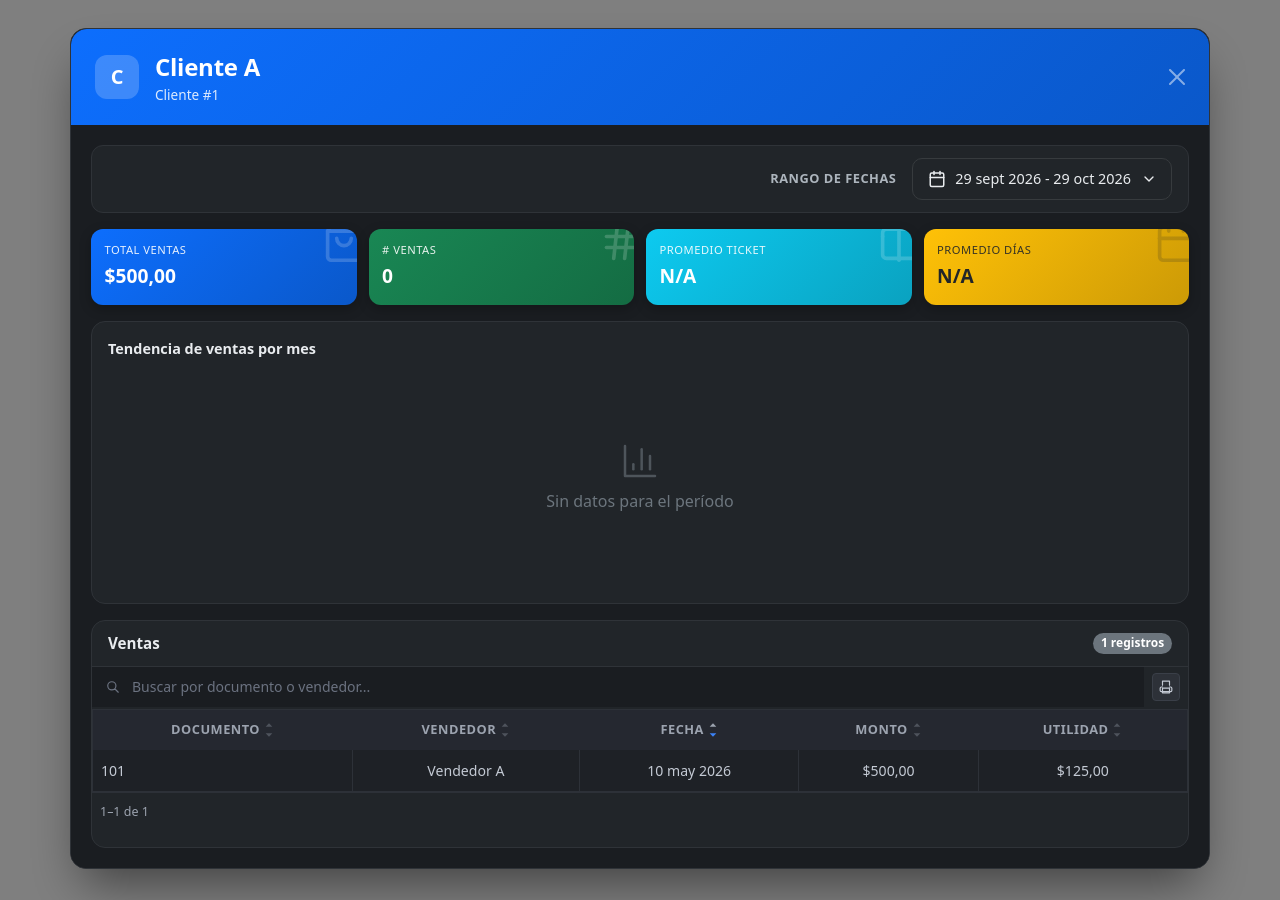
Test: ClientDashboardModal › opens the invoice details when a sales row is clicked
The image size is (1280, 900).
Click the text "Vendedor A" at (466, 770), box [352,750,580,791]
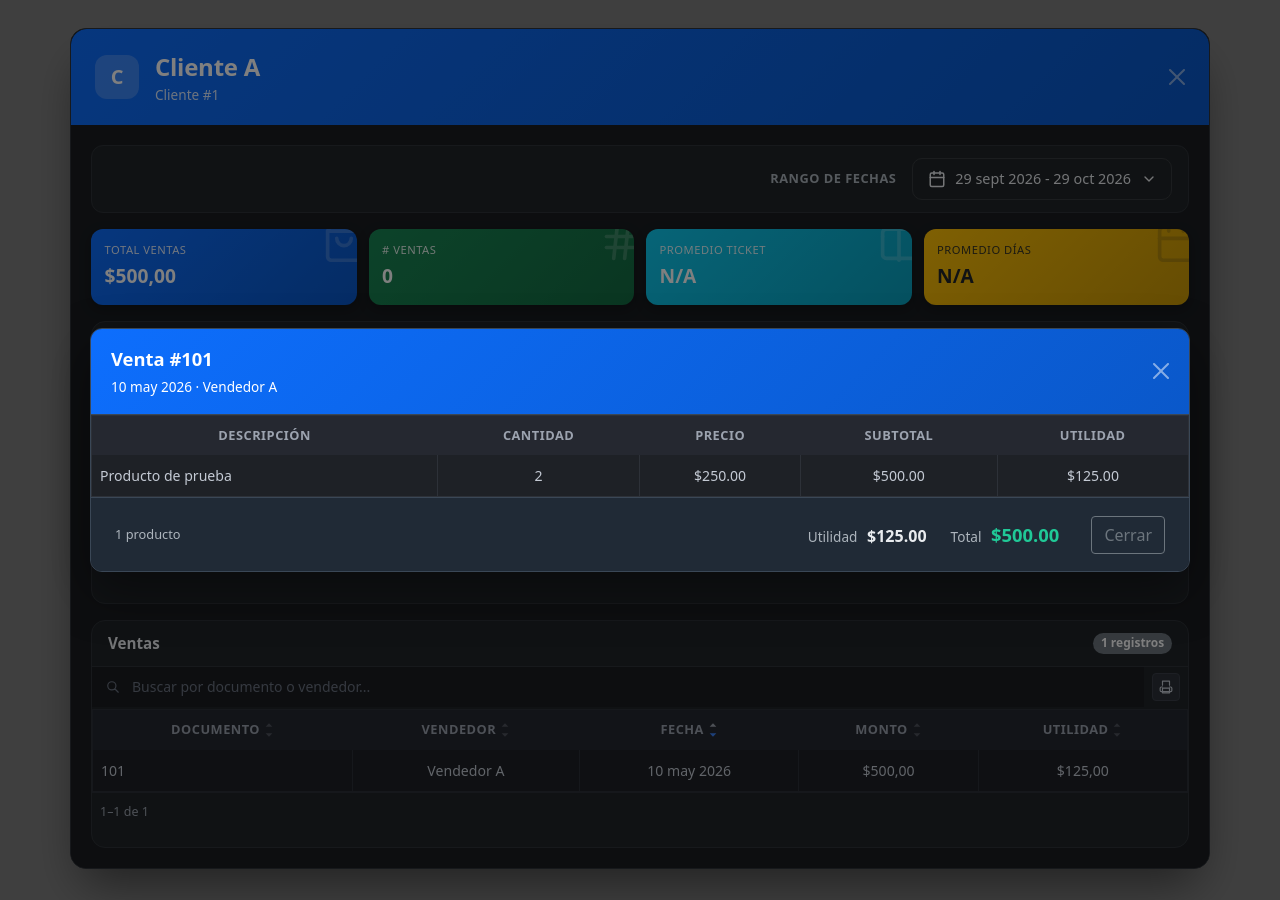
Now the text "Venta #101" is shown, box [111,346,213,371]
Now the text "Producto de prueba" is shown, box [92,455,437,496]
